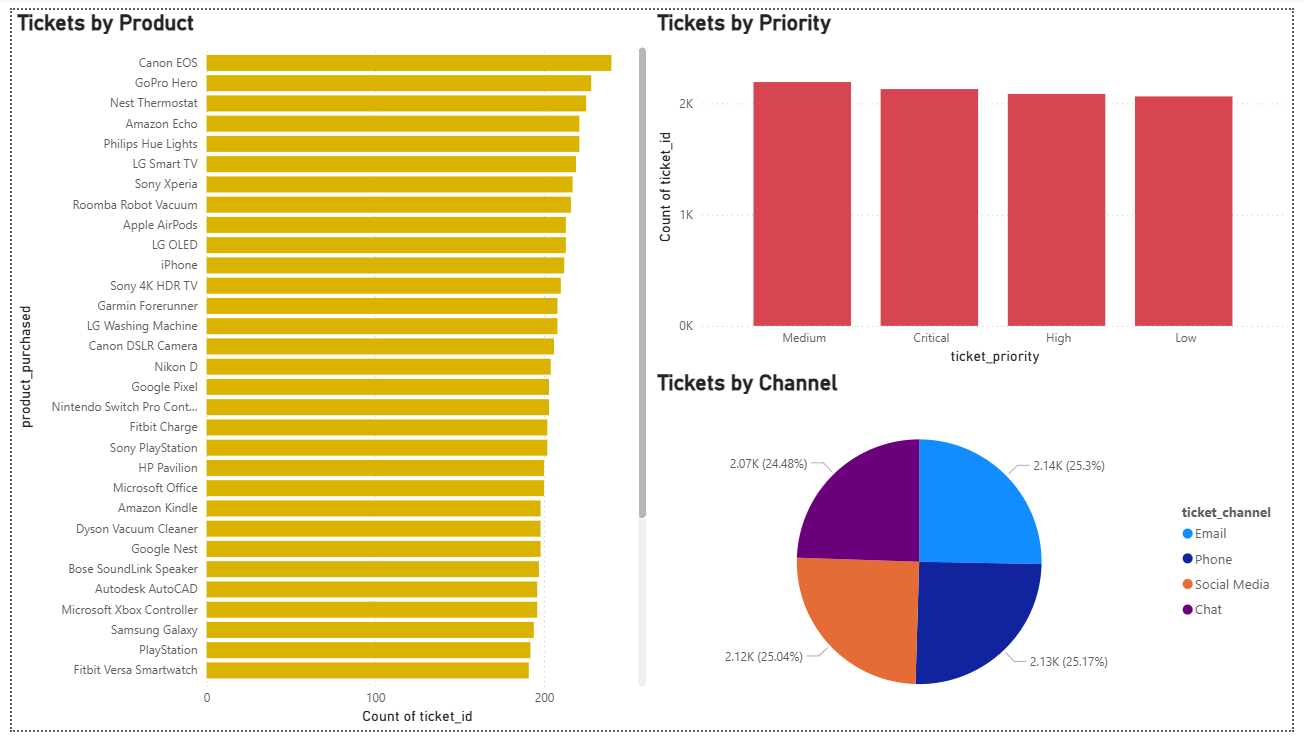

The dashboard page shown, as its layout file describes it:
{"tool":"powerbi","page":{"name":"Ticket Distribution","canvas":[1280,720],"ordinal":1},"visuals":[{"type":"clusteredBarChart","title":"Tickets by Product","fields":{"Category":["Ticket_Data.product_purchased"],"Y":["CountNonNull(Ticket_Data.ticket_id)"]},"box":[0,0,639.5,719.7],"z":0},{"type":"clusteredColumnChart","title":"Tickets by Priority","fields":{"Category":["Ticket_Data.ticket_priority"],"Y":["CountNonNull(Ticket_Data.ticket_id)"]},"box":[639.5,0,640.8,359.9],"z":1000},{"type":"pieChart","title":"Tickets by Channel","fields":{"Category":["Ticket_Data.ticket_channel"],"Y":["CountNonNull(Ticket_Data.ticket_id)"]},"box":[639.5,359.9,640.8,359.9],"z":2000}]}

Visuals, with their boxes in screenshot pixels (x1, y1, x2, y2), scaled from the page's 1280x720 canvas onto the 1304x739 screenshot:
"Tickets by Product" clusteredBarChart: 0,0,651,738
"Tickets by Priority" clusteredColumnChart: 651,0,1303,369
"Tickets by Channel" pieChart: 651,369,1303,738
